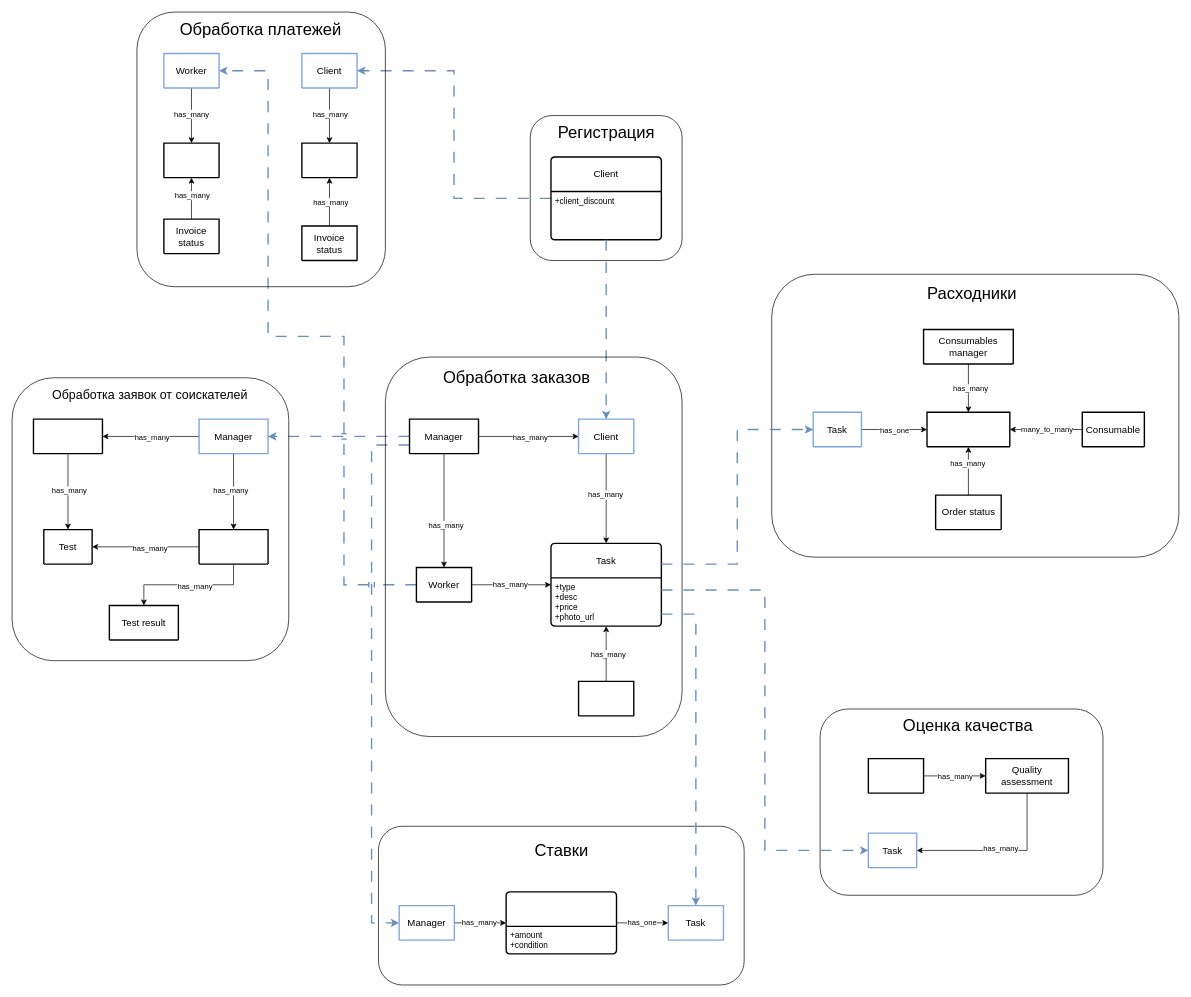
The diagram is 1191 pixels wide and 997 high, and some of its shapes have lost their labels. The shapes that lost their labels are listed below. From the top down, each one's box as (x1, y1, x2, y2) in pixels, then its label:
(163, 142, 219, 178): Worker invoice
(301, 142, 357, 178): Client invoice
(32, 418, 103, 454): Job vacancy
(926, 411, 1010, 447): Consumables order
(198, 529, 268, 564): Applicant
(578, 680, 634, 716): Task status
(867, 758, 924, 793): Quality manager
(505, 891, 617, 954): Bet
